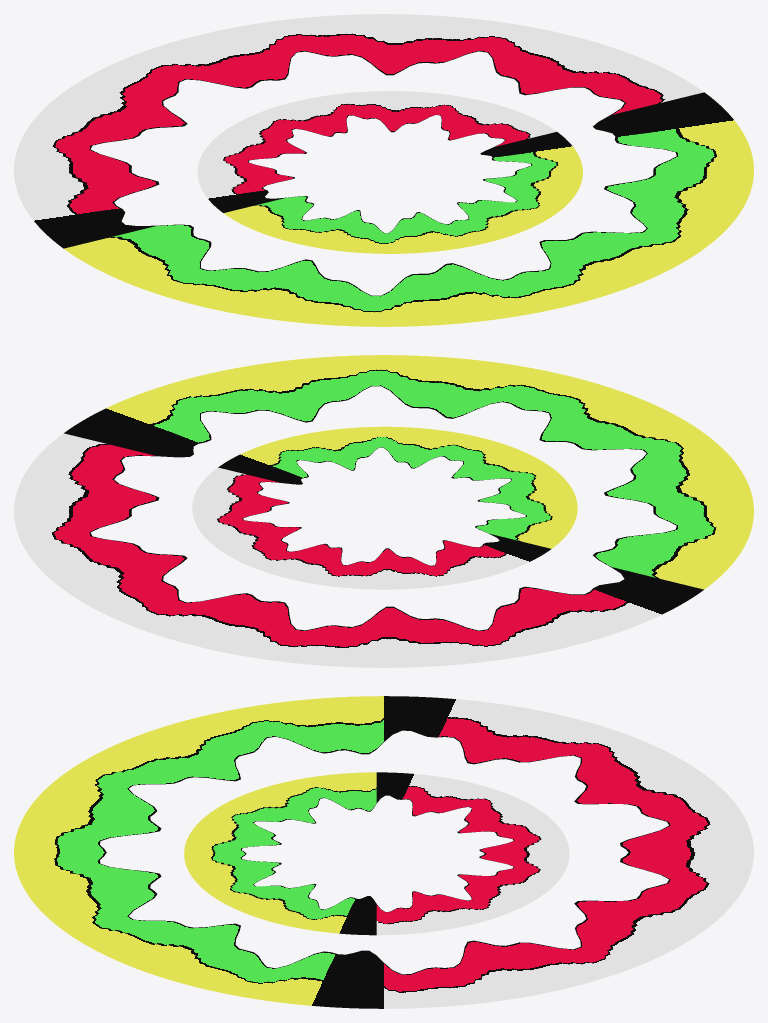
Rendered from ring.FBX.
3 renders of one model, top to bottom at view 1: azimuth 30°, elevation 25°; view 2: azimuth 150°, elevation 25°; view 3: azimuth 270°, elevation 25°, orthographic.
Parts seen in each view (by area): view 1: RingWave001, RingWave002; view 2: RingWave001, RingWave002; view 3: RingWave001, RingWave002.
Part boxes in pixels (box(x1,y1,x2,y2)): RingWave001: box(14, 14, 753, 326); RingWave002: box(197, 91, 582, 253); RingWave001: box(14, 355, 753, 667); RingWave002: box(192, 426, 577, 589); RingWave001: box(14, 696, 753, 1008); RingWave002: box(184, 772, 569, 935).
Size of the model in its own units: 20.21 by 1.24e-15 by 20.21.
1 material, 1 textured.
